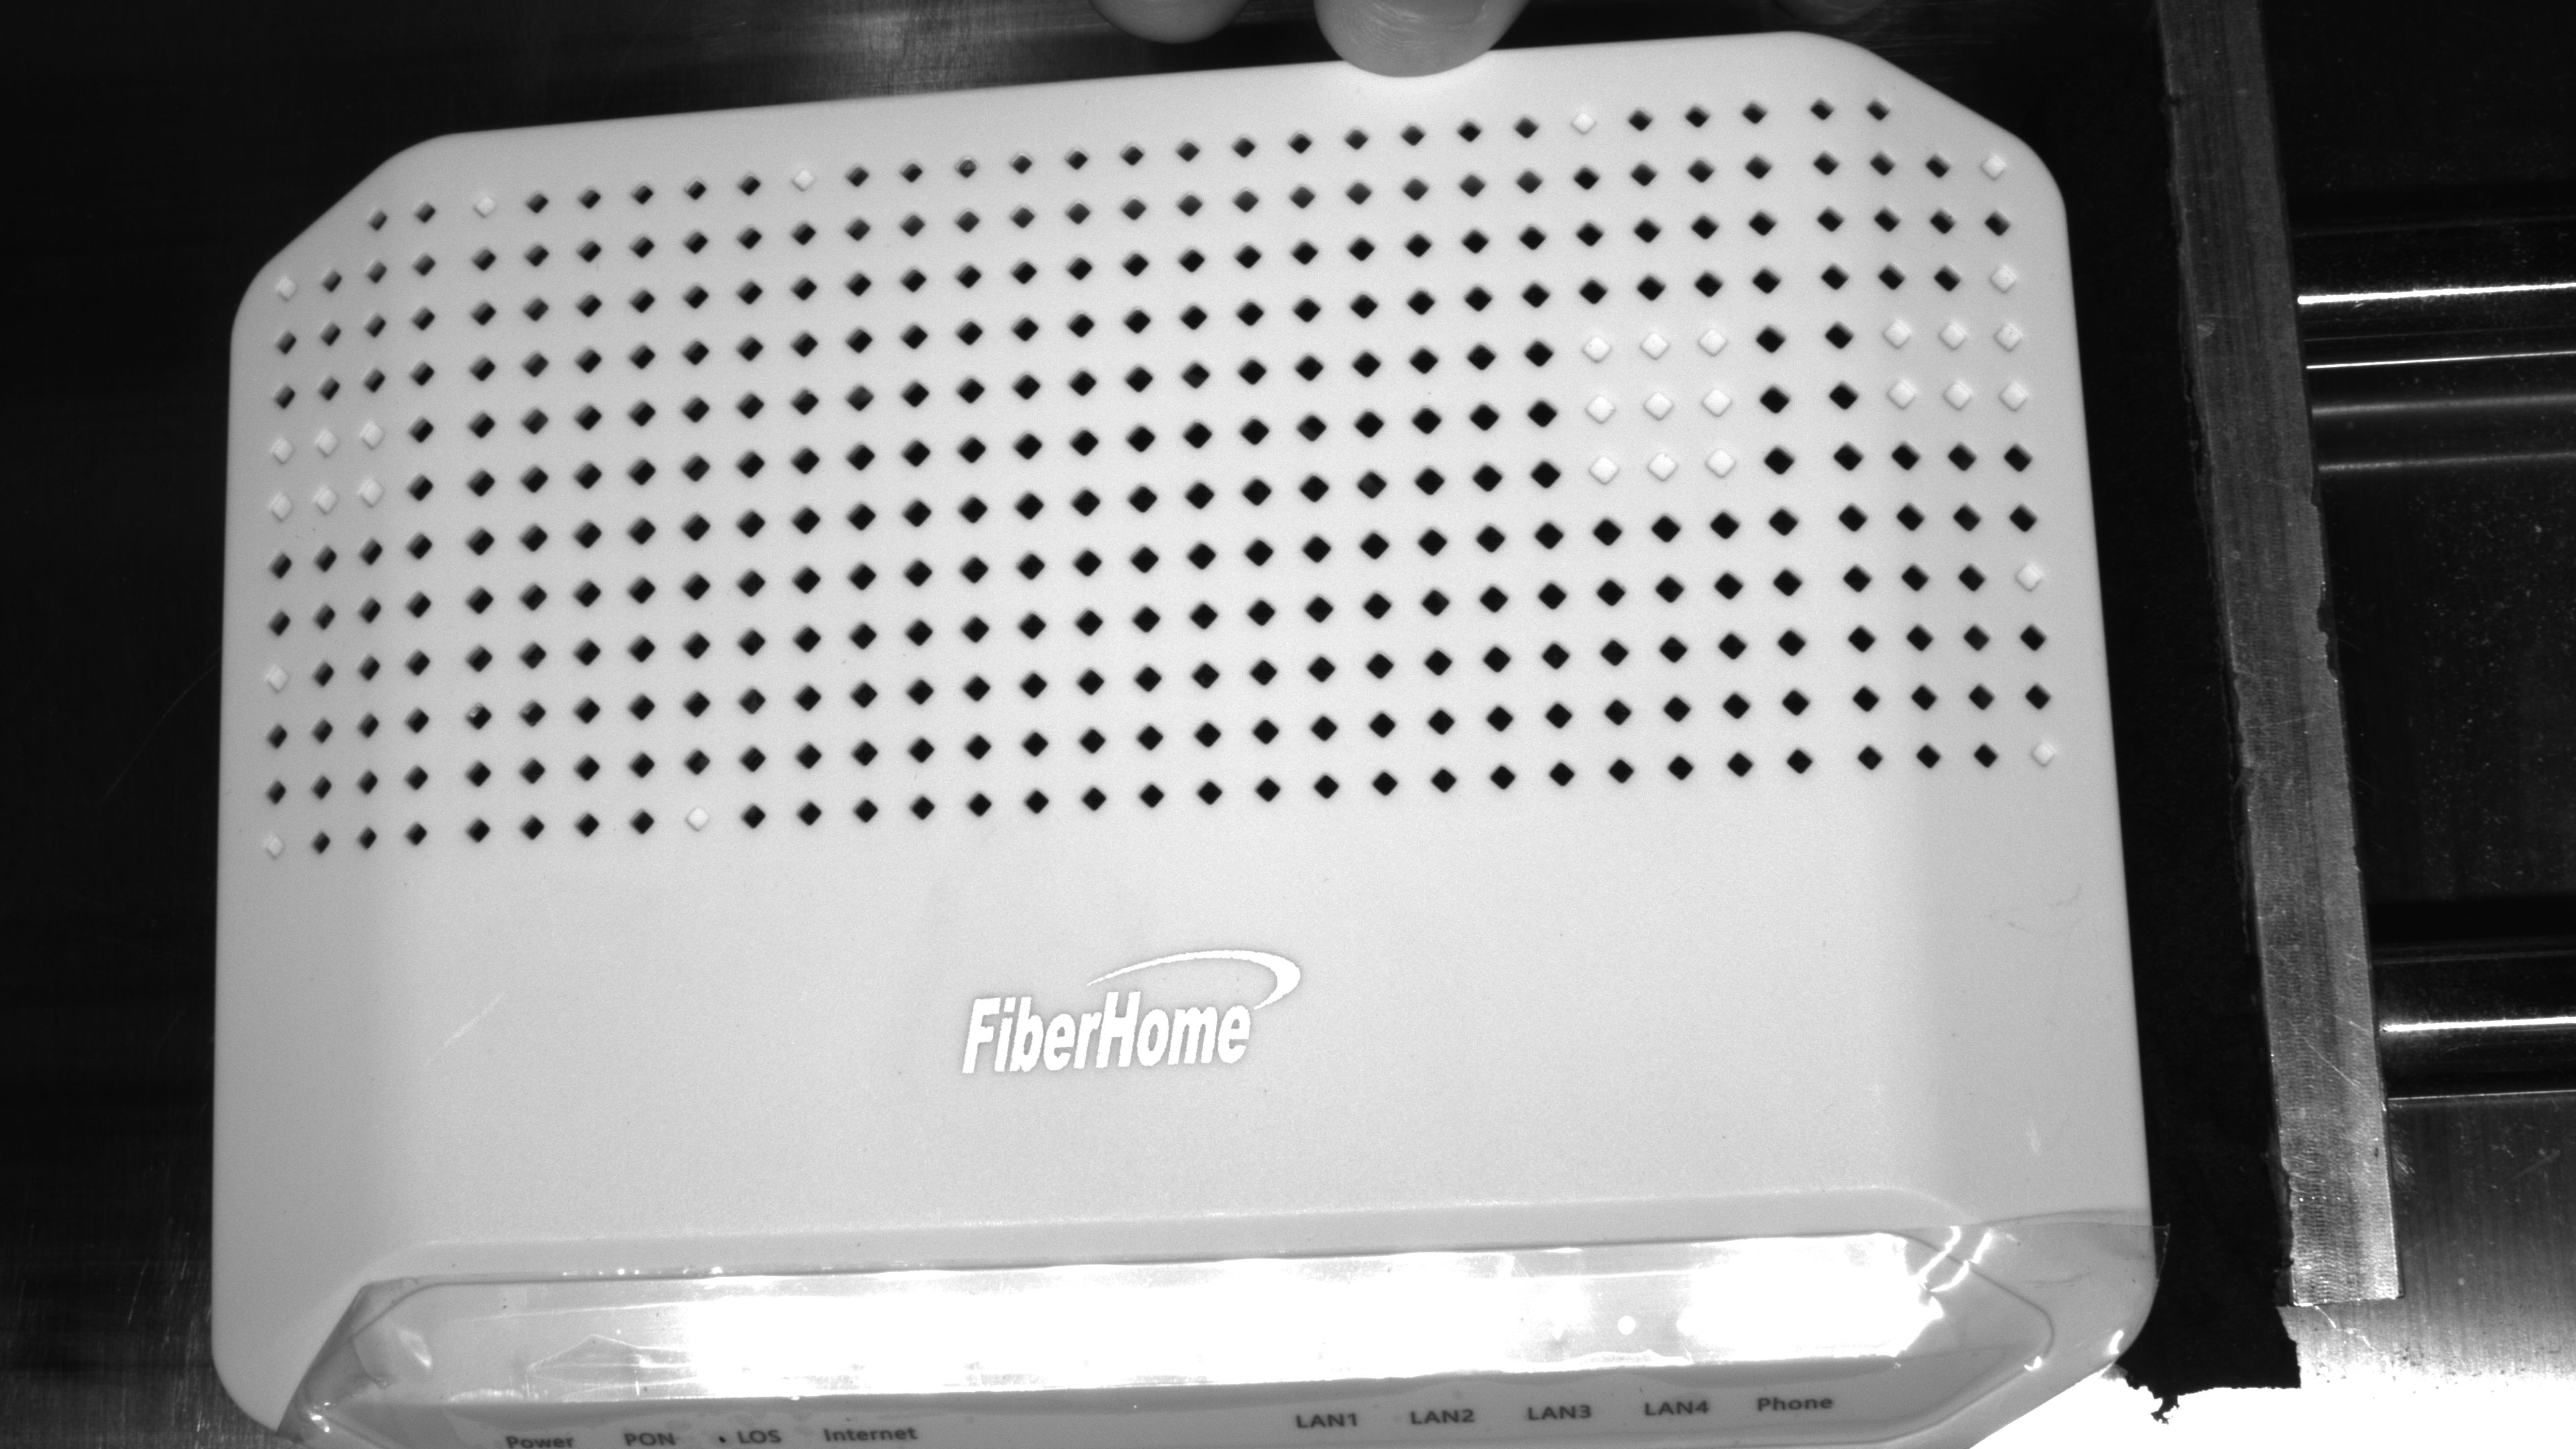AI_FiberHome: (909, 922, 1330, 1102)
